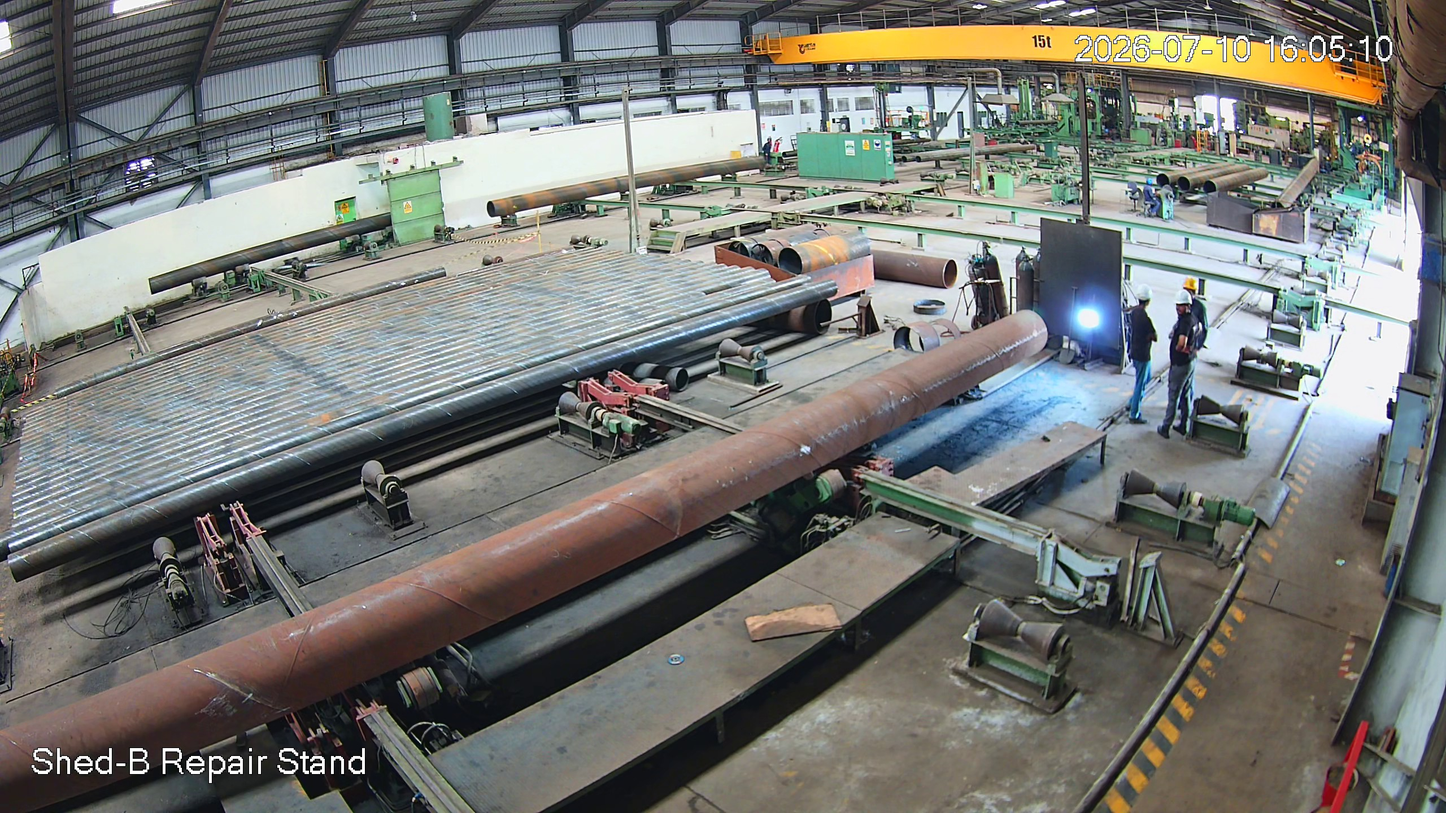Helmet: (1167, 285, 1198, 319), (1132, 283, 1158, 320)
Person: (1162, 289, 1200, 441), (1124, 285, 1161, 427)
